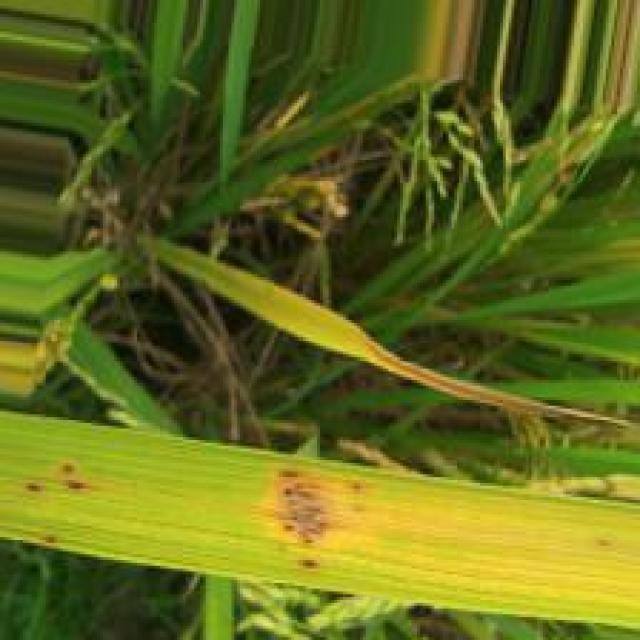Narrow_Brown_Leaf_Spot: (254, 452, 613, 580)
